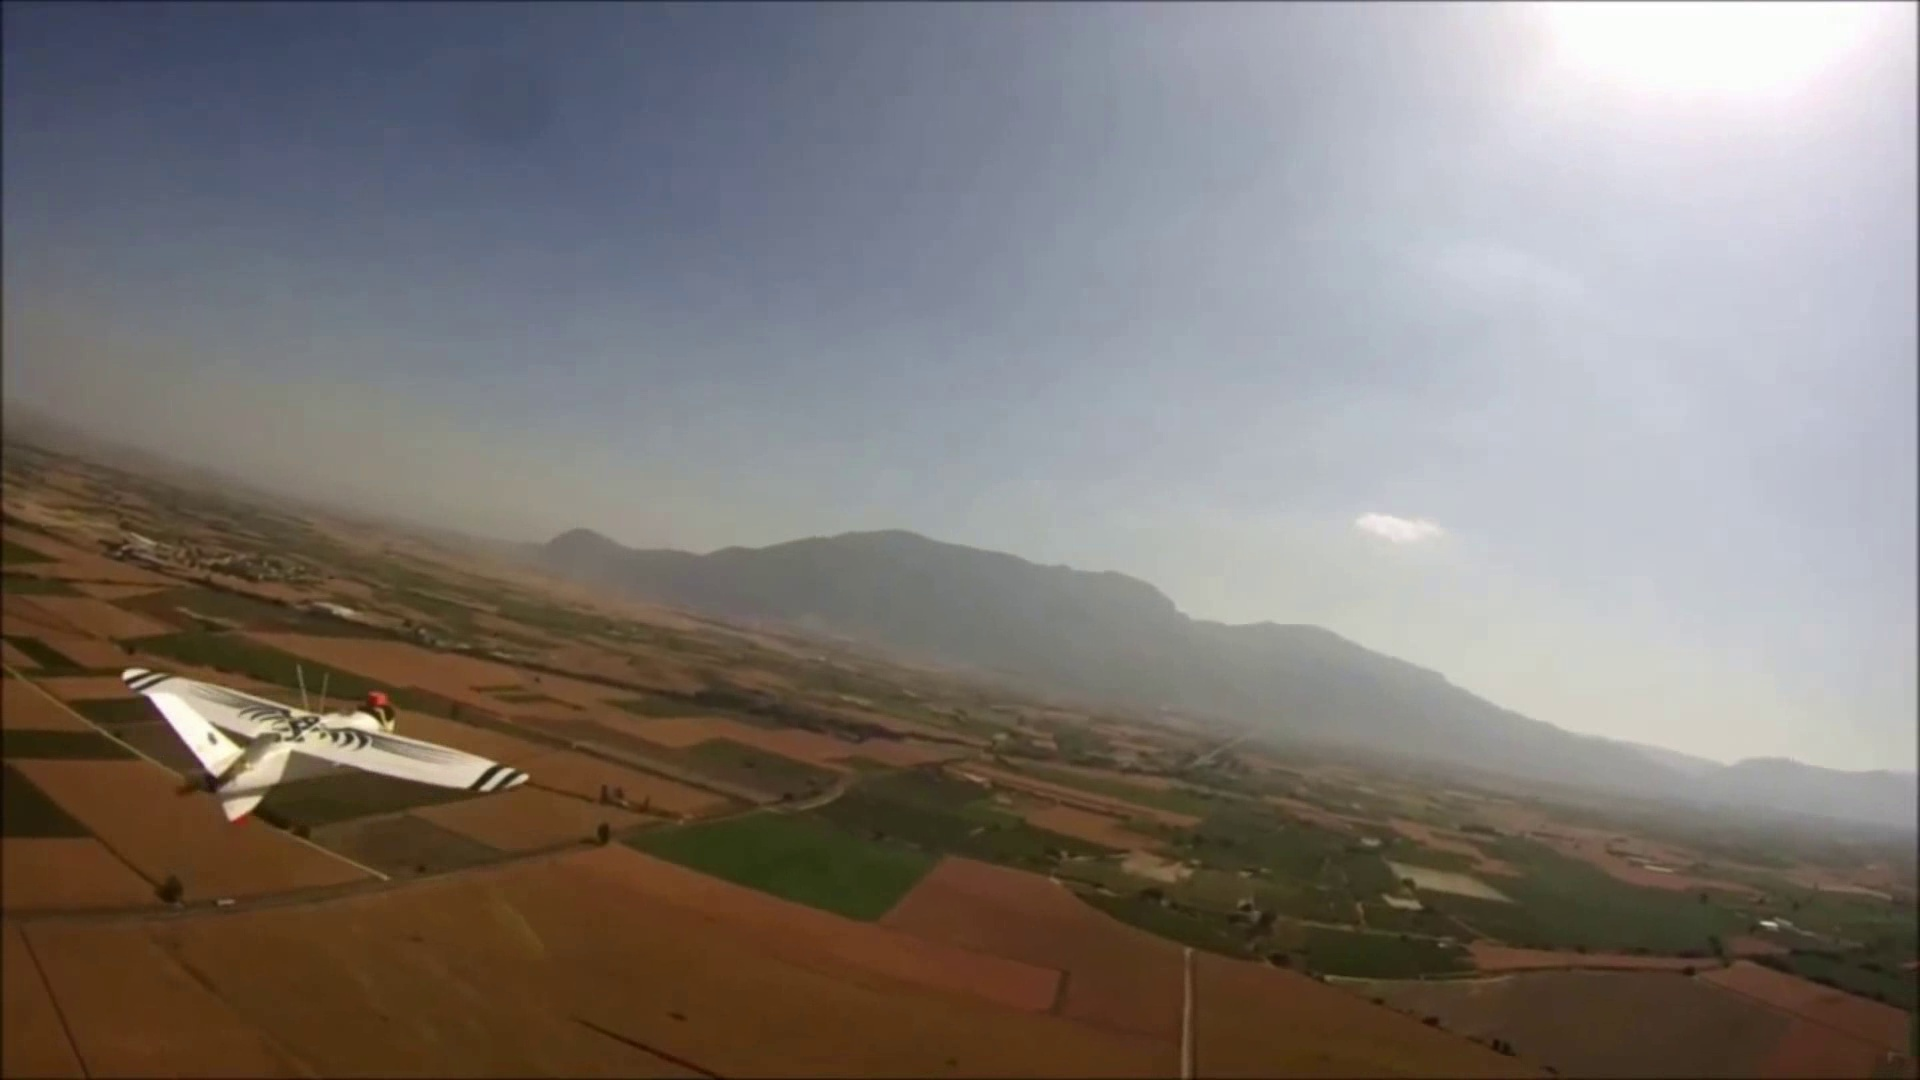airplane: (113, 658, 530, 829)
